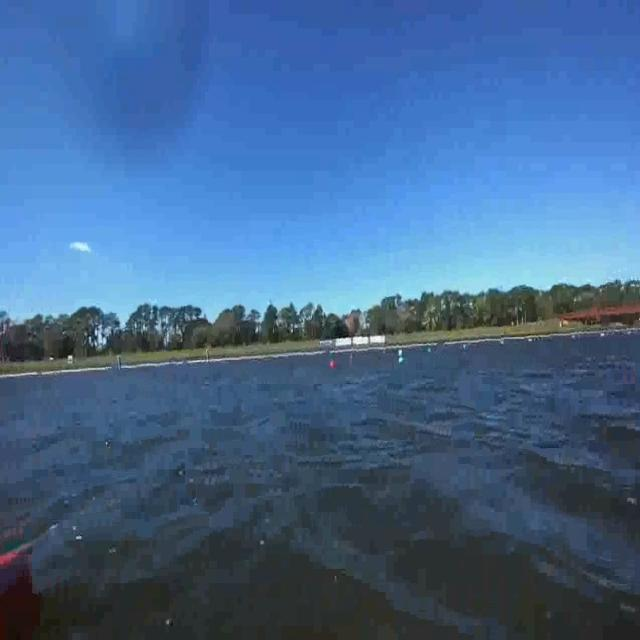red-buoy: (329, 360, 335, 369)
